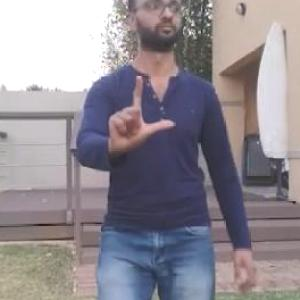land_hand: (102, 67, 178, 158)
